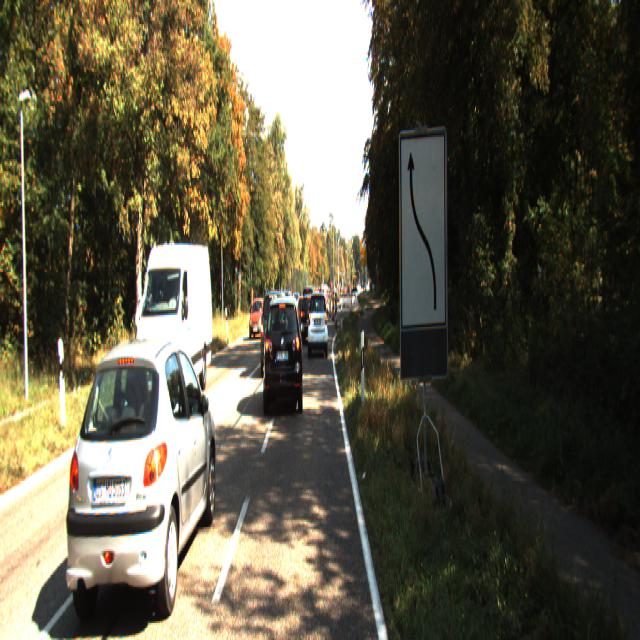Car: (65, 322, 219, 626), (134, 236, 212, 407), (263, 289, 303, 411), (259, 287, 291, 372), (308, 288, 327, 352)
